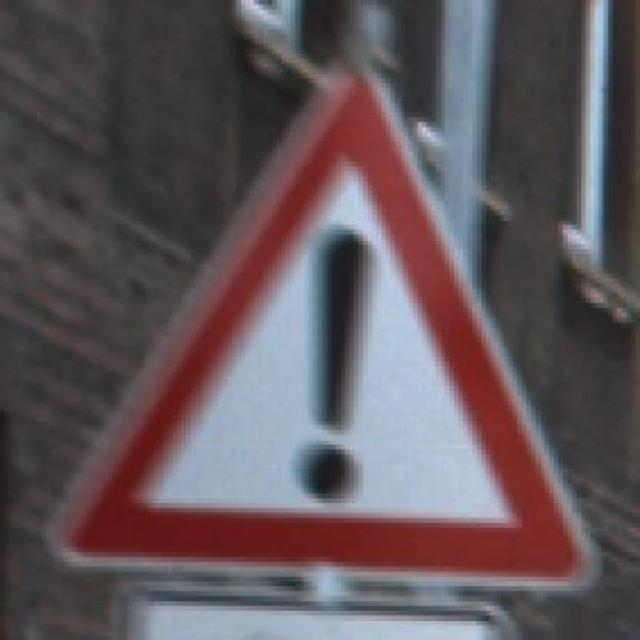Attention Please-: (50, 53, 627, 592)
